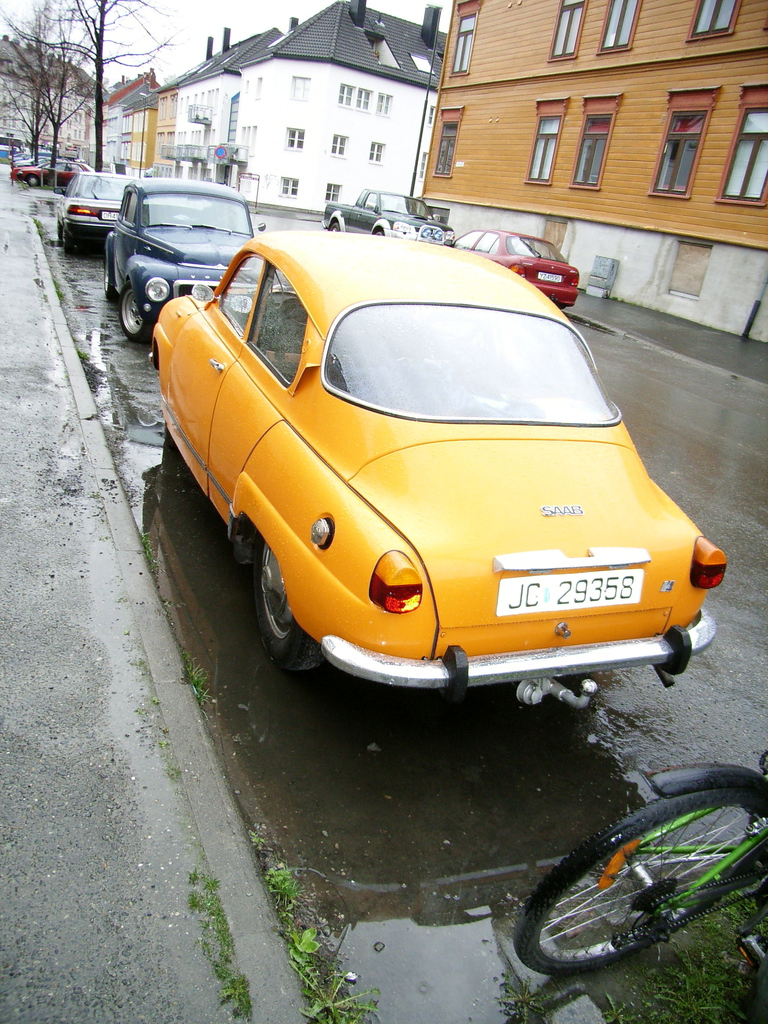Car: (126, 230, 726, 711), (106, 183, 288, 326), (447, 235, 578, 305), (58, 168, 136, 251), (330, 190, 435, 240)
